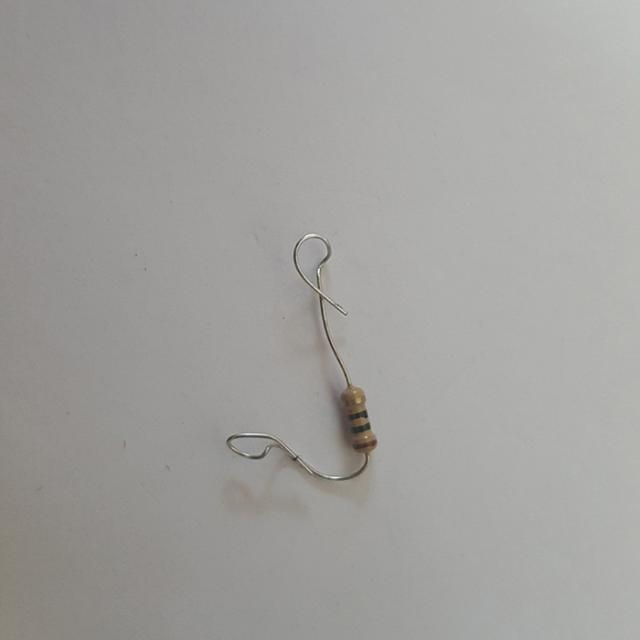black: (349, 423, 370, 433), (348, 411, 368, 420)
brown: (353, 441, 378, 449)
gold: (344, 397, 365, 405)
resistor: (328, 376, 385, 458)
